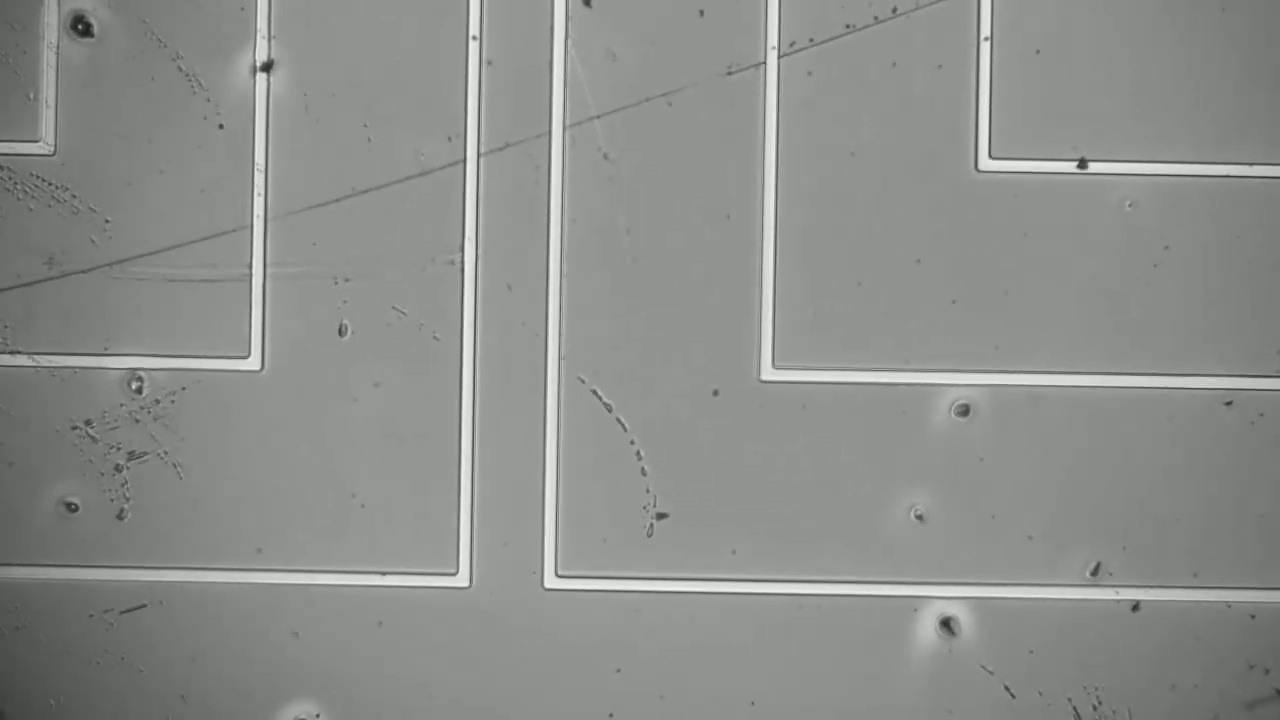scratch: (0, 7, 923, 298), (576, 376, 658, 534)
stains_enbedded: (236, 51, 284, 87), (1070, 145, 1100, 183)
